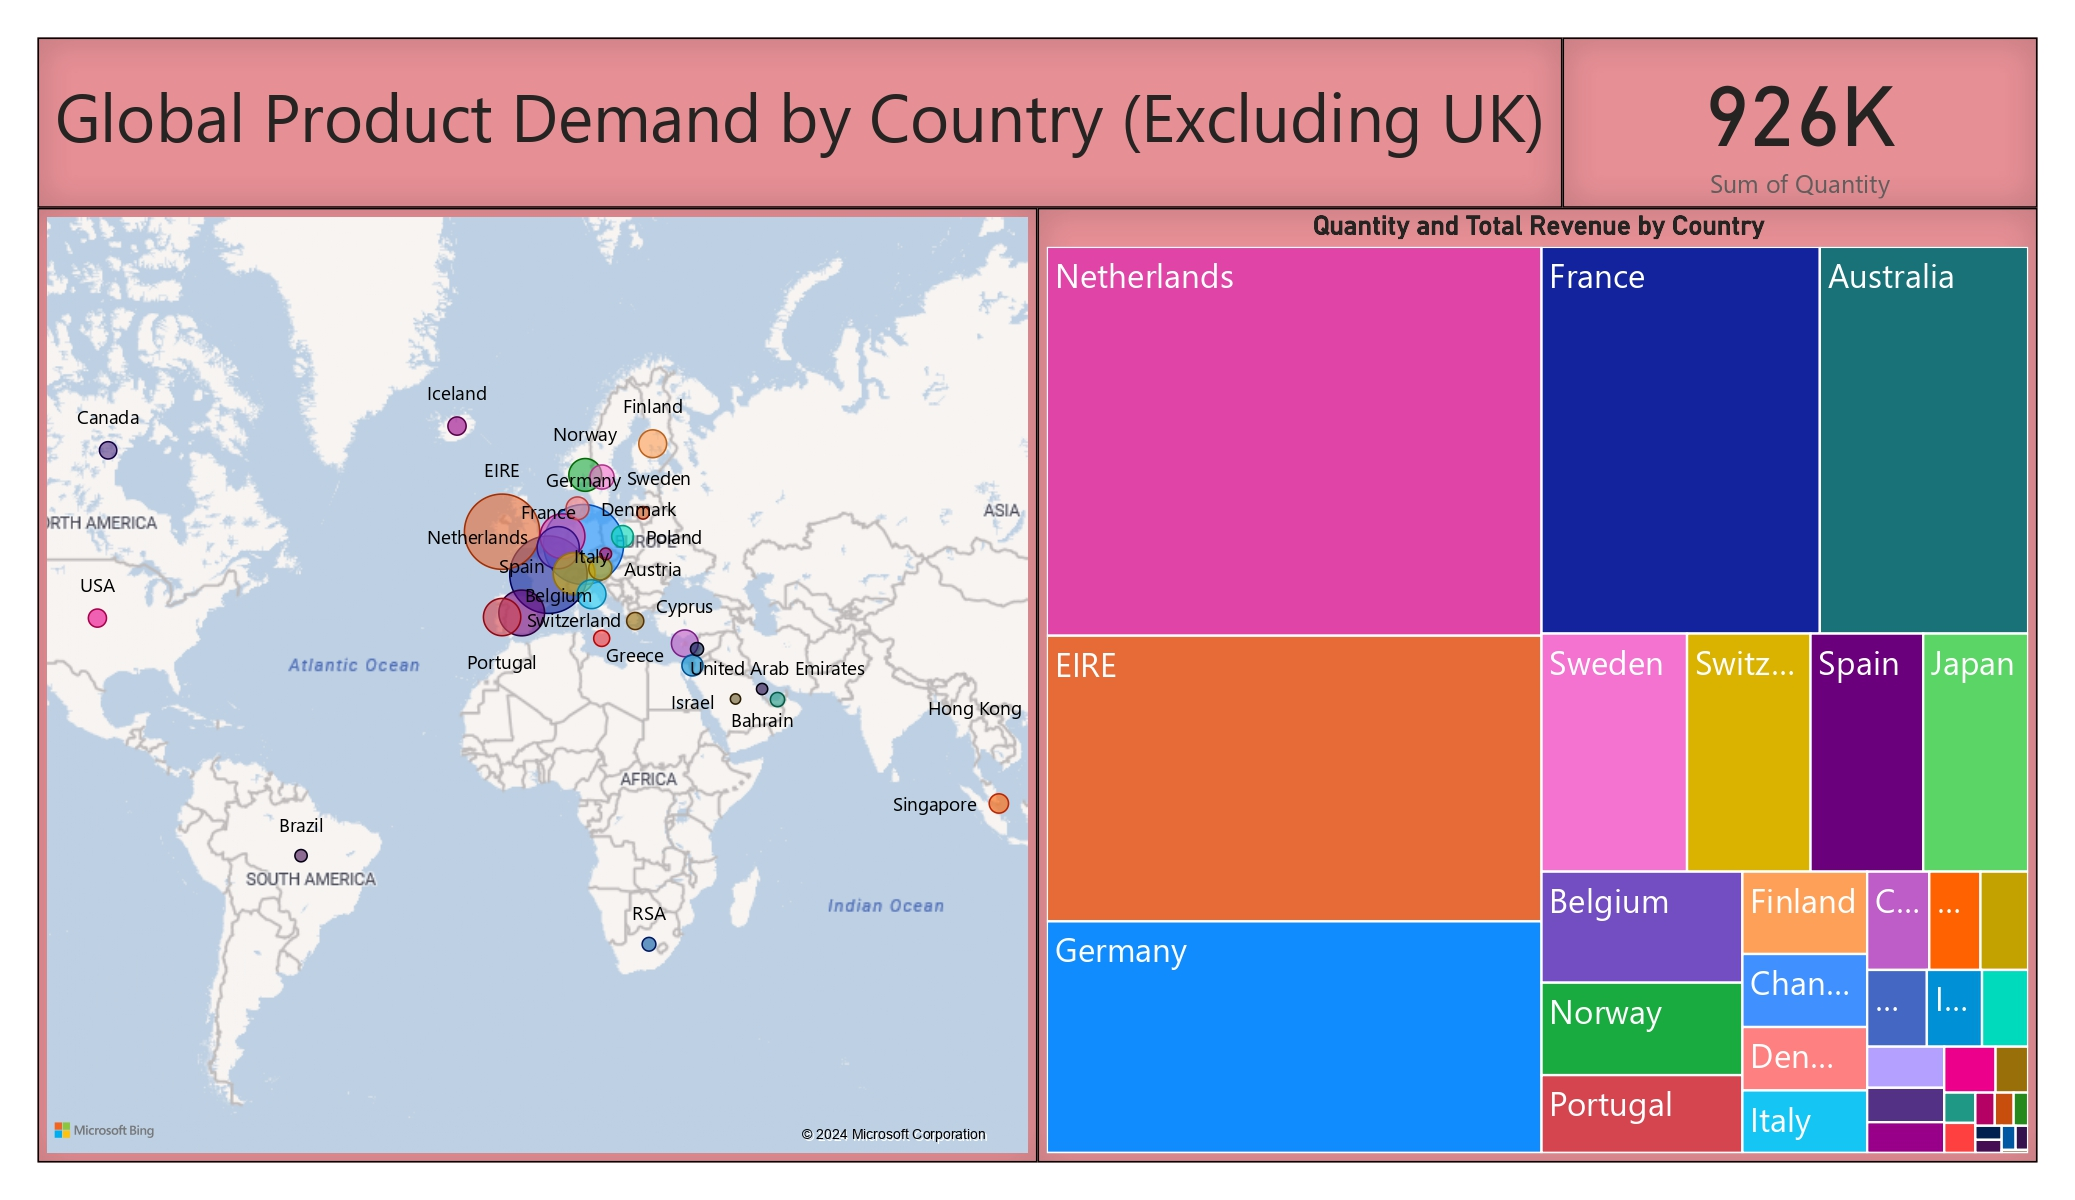

The dashboard page shown, as its layout file describes it:
{"tool":"powerbi","page":{"name":"Q4","canvas":[1280,720],"ordinal":3},"visuals":[{"type":"textbox","box":[0,0,975.7,108.6],"z":0},{"type":"map","fields":{"Category":["Online Retail.Country"],"Size":["CountNonNull(Online Retail.Quantity)"],"Series":["Online Retail.Country"]},"box":[0,108.6,640,611.4],"z":1000},{"type":"card","fields":{"Values":["Sum(Online Retail.Quantity)"]},"box":[975.7,0,304.3,108.6],"z":2000},{"type":"treemap","title":"Quantity and Total Revenue by Country","fields":{"Group":["Online Retail.Country"],"Values":["Sum(Online Retail.Quantity)"]},"box":[640,108.6,640,611.4],"z":3000}]}

Visuals, with their boxes on the page's 1280x720 design canvas (x1, y1, x2, y2). These are canvas units, not pixel positions in the 2075x1200 screenshot, which may show the page scaled, cropped or inside an application window:
textbox: left=0, top=0, right=976, bottom=109
map - Online Retail.Country x CountNonNull(Online Retail.Quantity): left=0, top=109, right=640, bottom=720
card - Sum(Online Retail.Quantity): left=976, top=0, right=1280, bottom=109
"Quantity and Total Revenue by Country" treemap: left=640, top=109, right=1280, bottom=720
